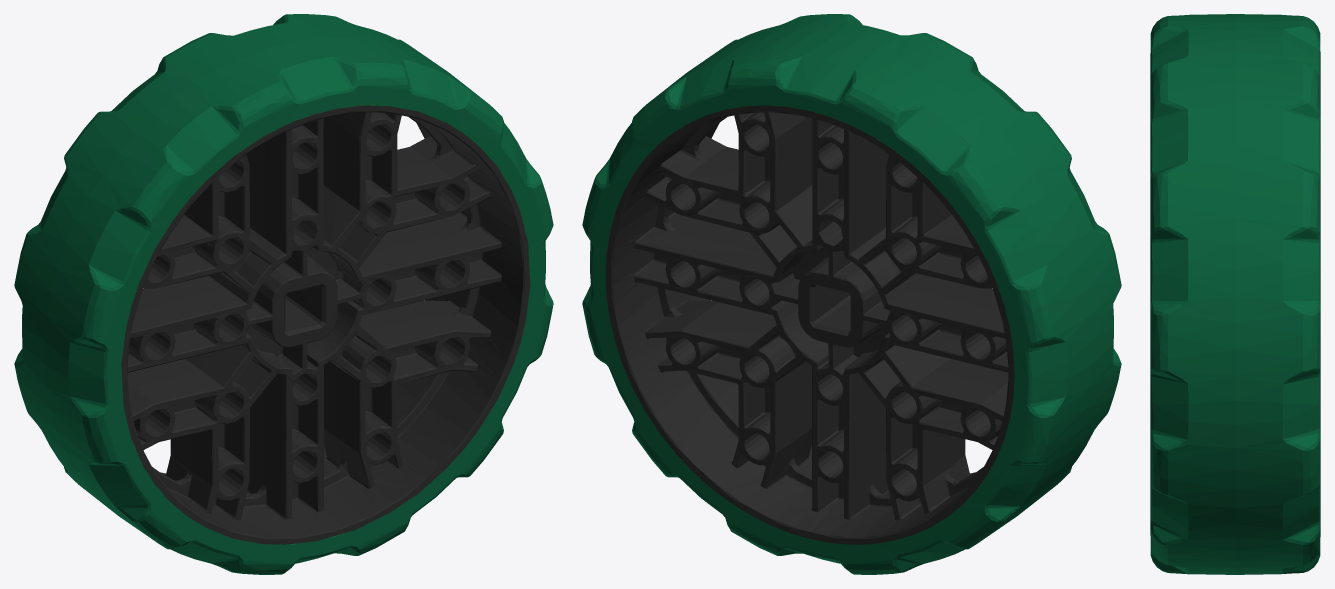
The model's file is 3_25_Anti-Static_Wheel.glb.
3 renders of one model, left to right at view 1: azimuth 30°, elevation 25°; view 2: azimuth 150°, elevation 25°; view 3: azimuth 270°, elevation 25°, orthographic.
Visible parts, largest first — view 1: 3.25 Anti-Static Wheel; view 2: 3.25 Anti-Static Wheel; view 3: 3.25 Anti-Static Wheel.
Part boxes in pixels (left/top/right/bottom): 3.25 Anti-Static Wheel: left=14, top=14, right=553, bottom=574; 3.25 Anti-Static Wheel: left=582, top=14, right=1121, bottom=574; 3.25 Anti-Static Wheel: left=1150, top=14, right=1320, bottom=574.
Size of the model in its own units: 3.25 by 3.25 by 0.9843.
